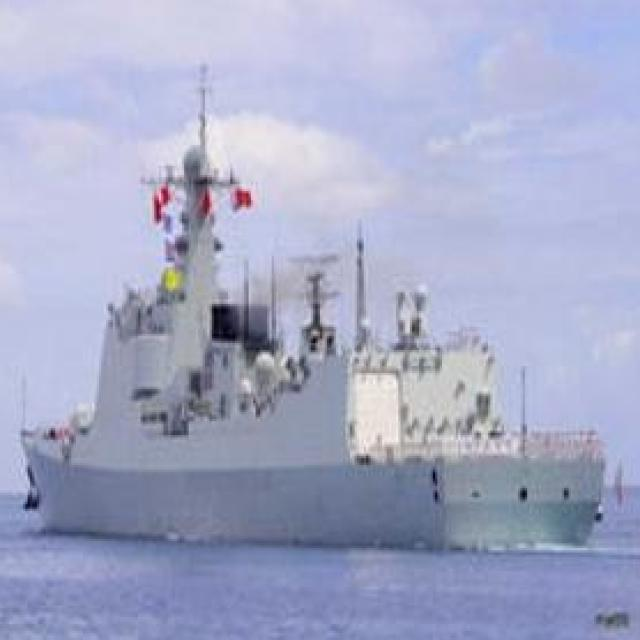navalvessels: (19, 71, 612, 556)
